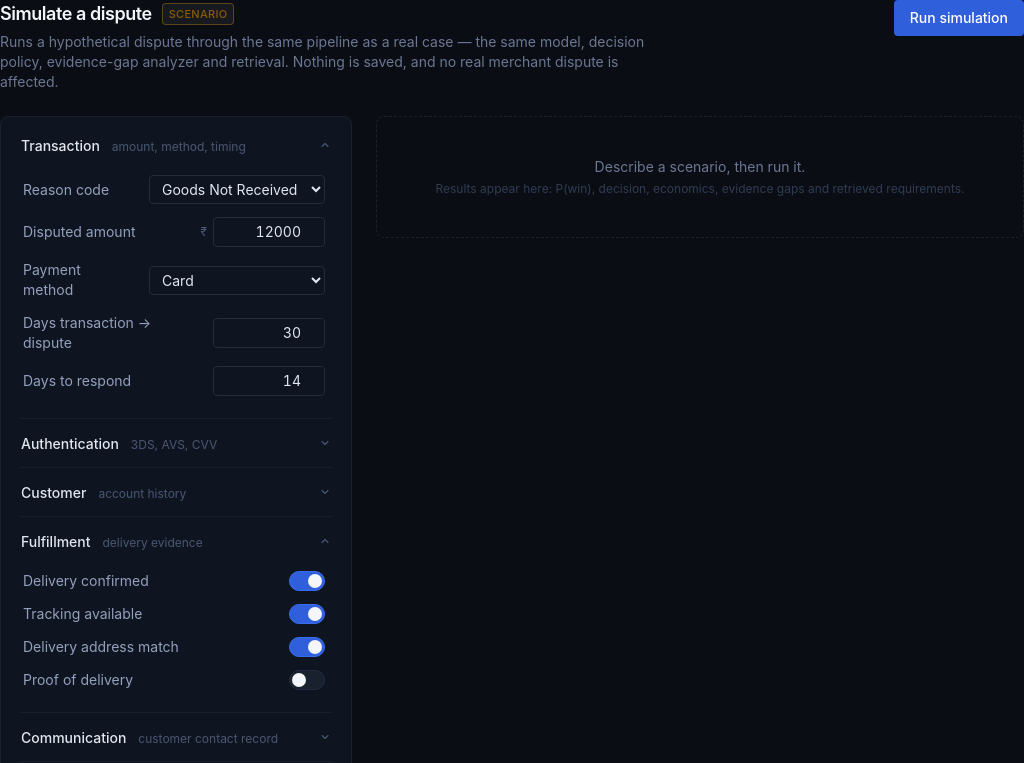
Test: SimulationPage › renders the backend decision verbatim, without deriving it from the probability
The image size is (1024, 763).
Click the button "Run simulation": (959, 18) [894,0,1023,36]
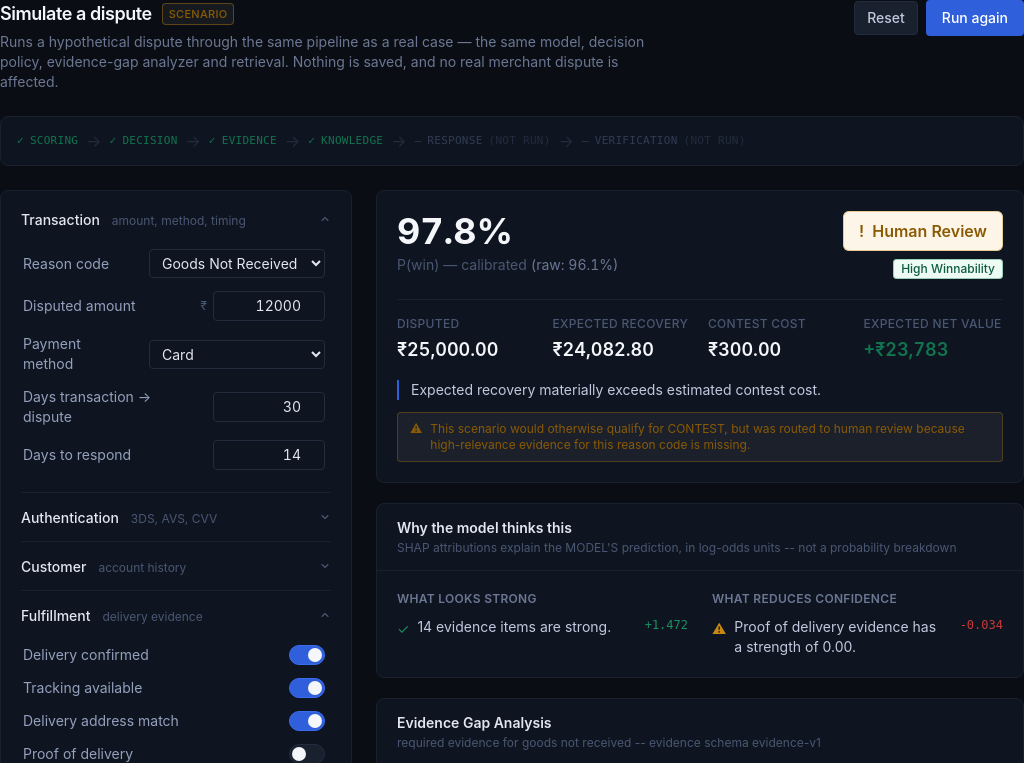
expect the text "97.8%" is shown: met, box [397,209,513,253]
expect the text "Human Review" is shown: met, box [872,221,987,241]
